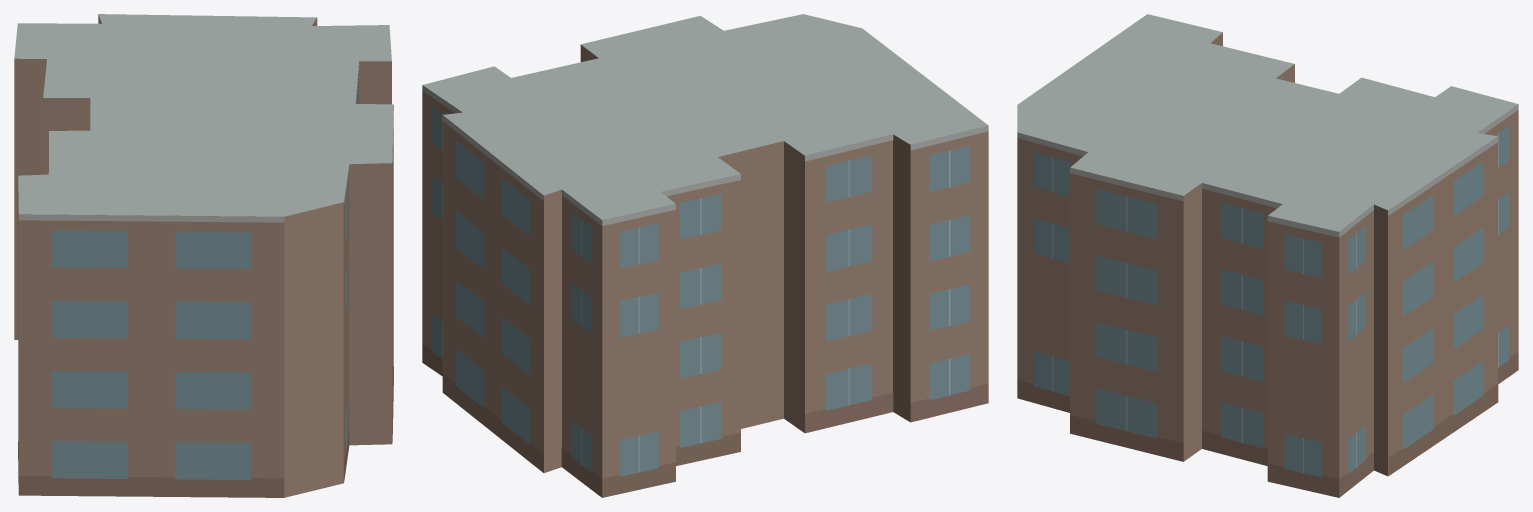
The model's file is survey-upis-32777622.glb.
3 views of the same model, side by side, from view 1: azimuth 30°, elevation 25°; view 2: azimuth 150°, elevation 25°; view 3: azimuth 270°, elevation 25° (orthographic). The views are drawn at different scales.
Visible parts, largest first — view 1: survey-upis-32777622.tmp; view 2: survey-upis-32777622.tmp; view 3: survey-upis-32777622.tmp.
Part boxes in pixels (left/top/right/bottom): survey-upis-32777622.tmp: left=14, top=14, right=393, bottom=497; survey-upis-32777622.tmp: left=422, top=14, right=988, bottom=497; survey-upis-32777622.tmp: left=1017, top=14, right=1518, bottom=497.
Bounding box in the file's own units: 20.3 × 11.55 × 19.74.
